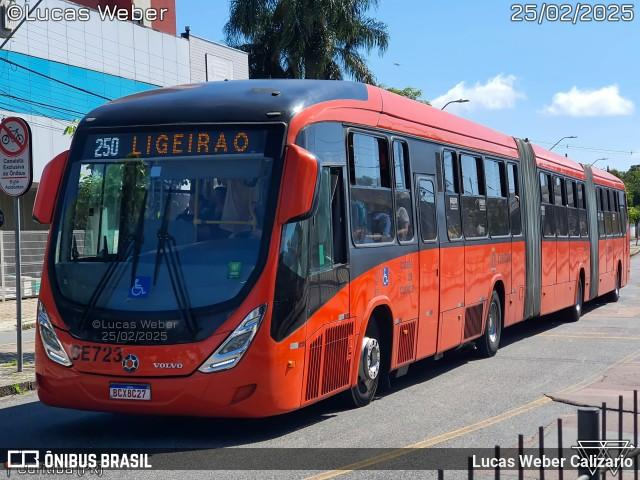LIGEIRAO: (126, 129, 256, 160)
